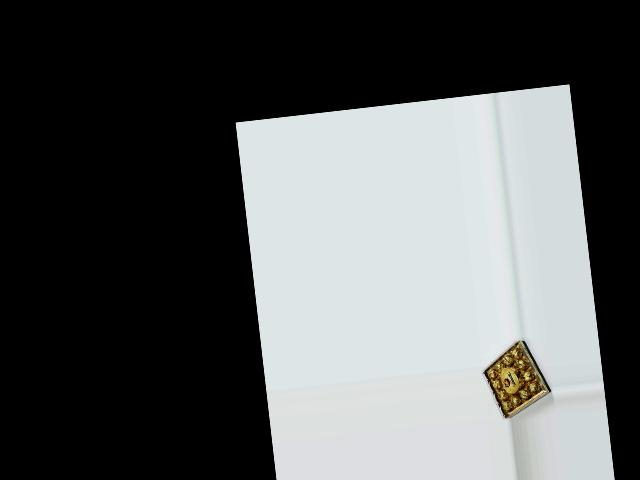chocolate: (478, 336, 555, 421)
